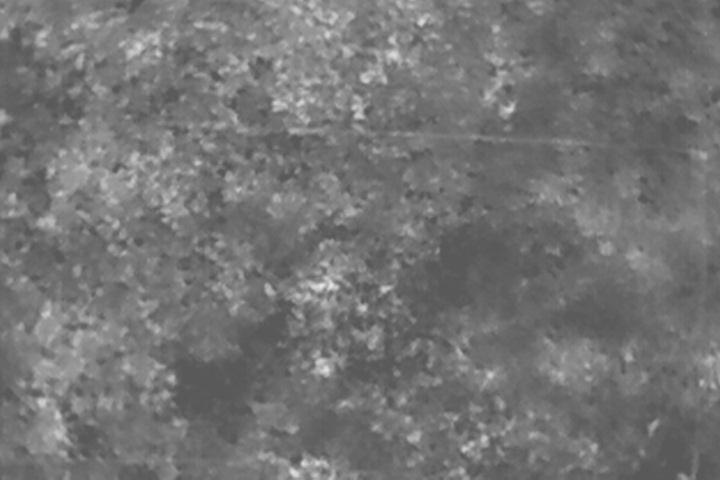landmine: (305, 271, 345, 304)
